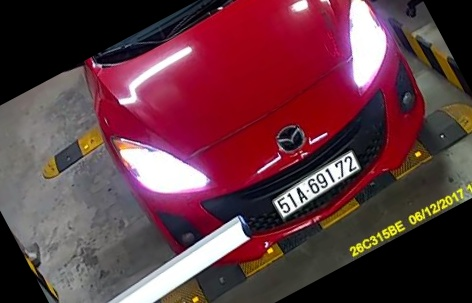plate: (262, 146, 358, 222)
